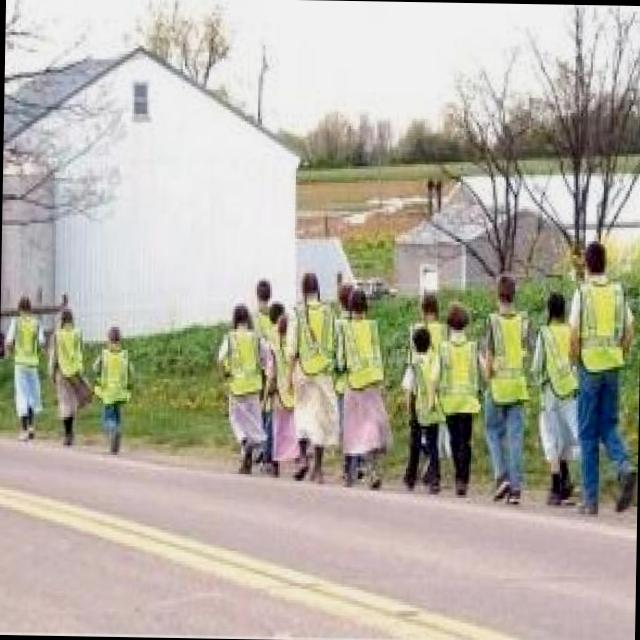vest: (574, 280, 630, 367), (489, 310, 530, 400), (224, 321, 266, 398), (294, 307, 336, 376), (440, 338, 474, 422), (346, 316, 382, 391), (542, 322, 570, 397), (100, 352, 126, 415), (54, 326, 82, 380), (14, 320, 39, 370)
